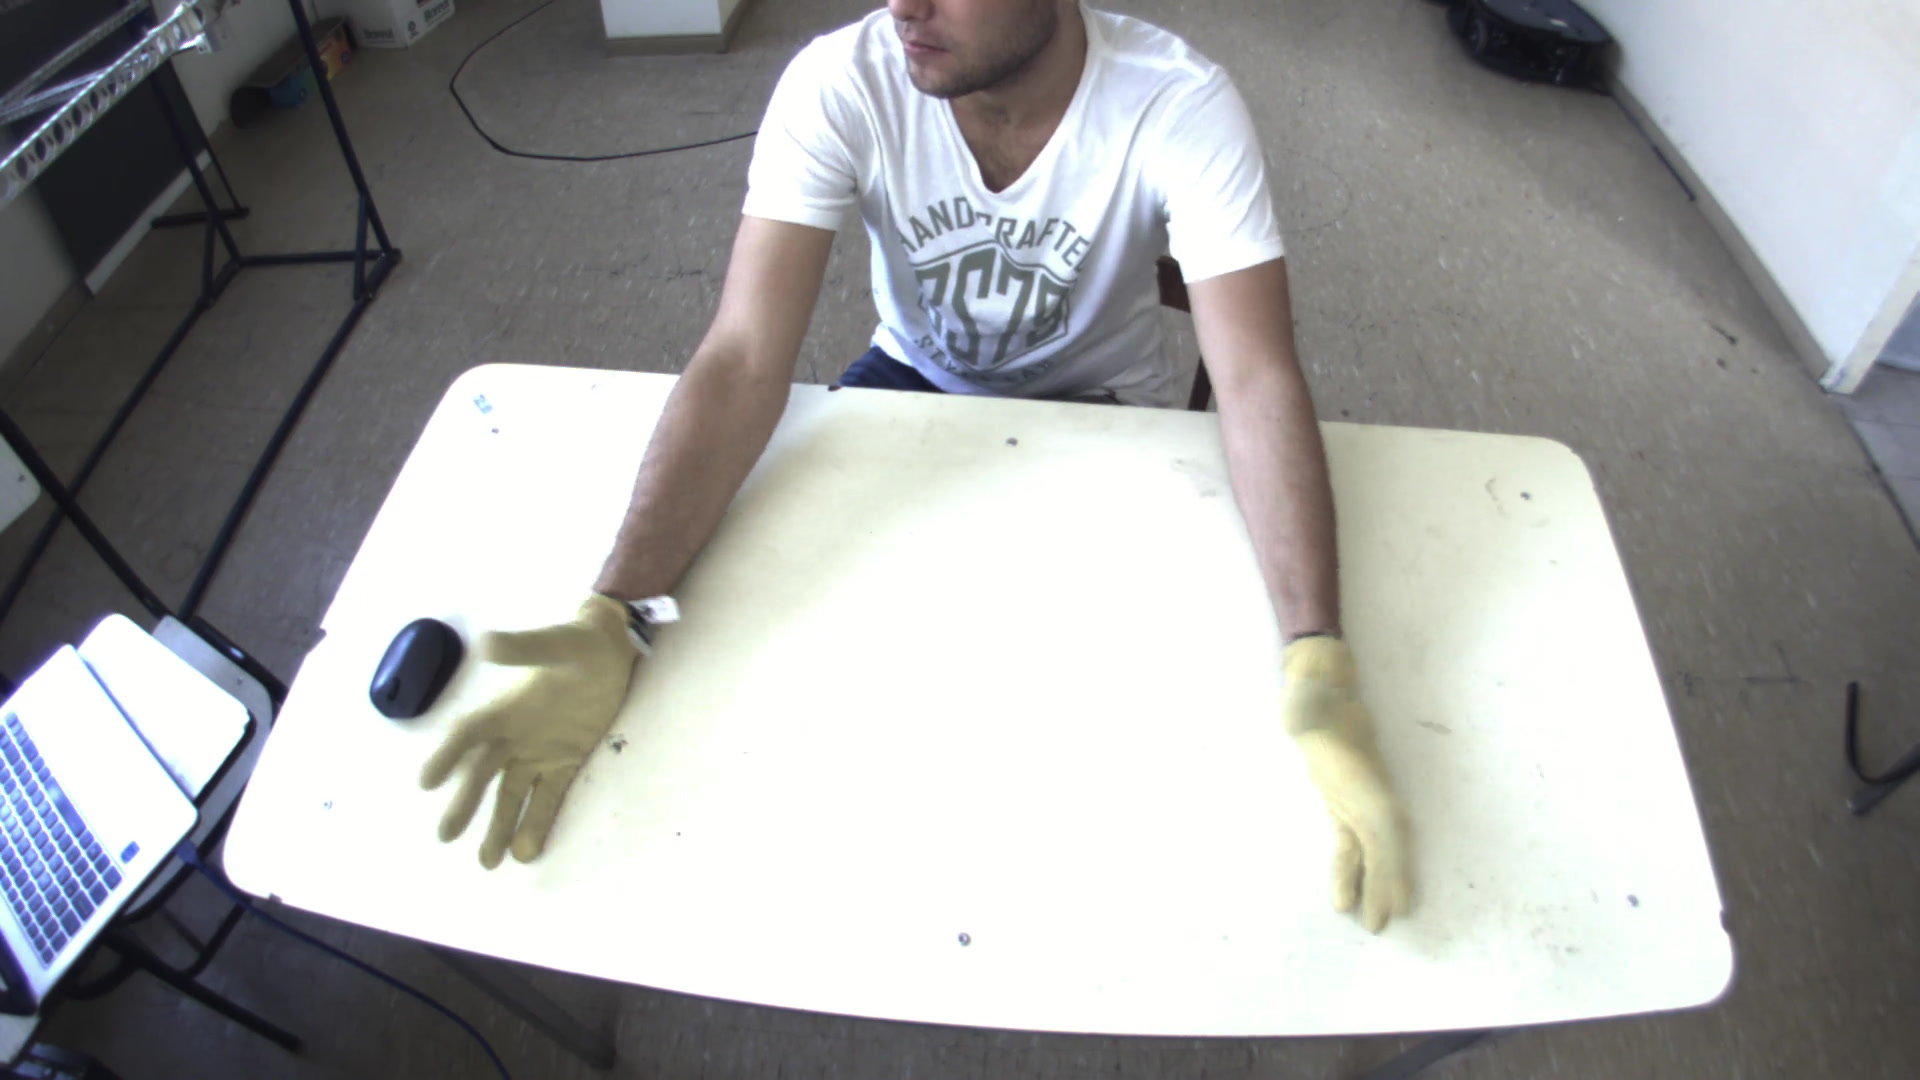hand: (386, 587, 658, 873), (1276, 633, 1443, 944)
